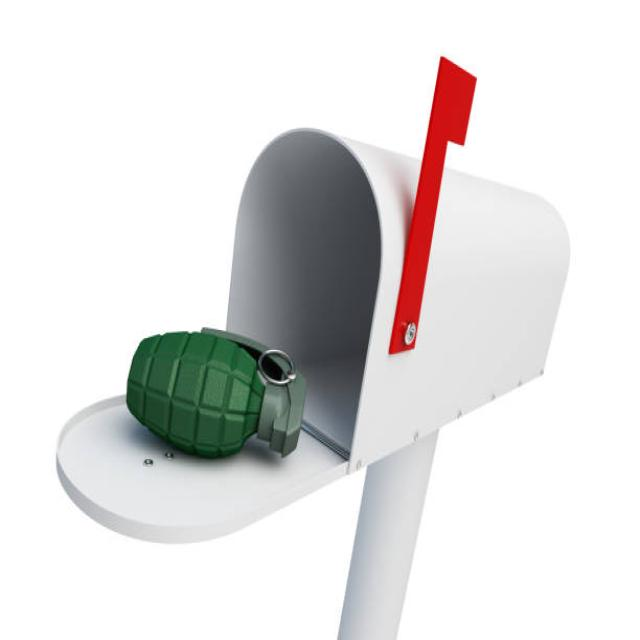grenade: (126, 322, 309, 471)
